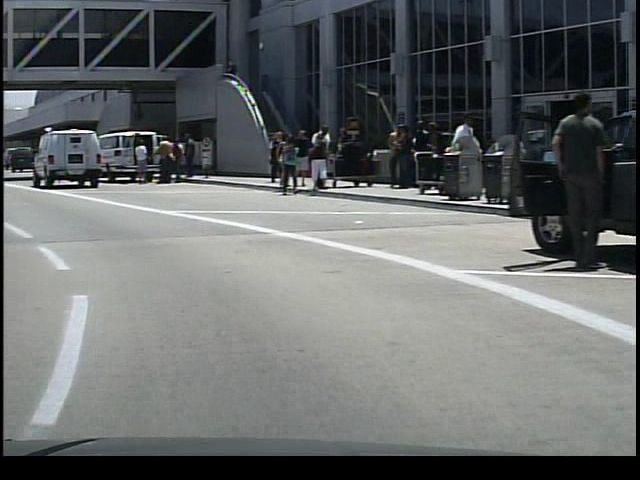person: (537, 86, 605, 273), (437, 109, 475, 202), (307, 123, 333, 189), (302, 139, 325, 193), (173, 131, 195, 180), (151, 134, 171, 186), (262, 126, 278, 187), (129, 135, 148, 186)
